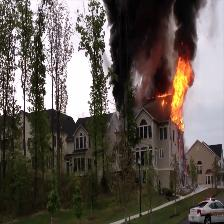fire: (170, 58, 192, 129)
smoke: (104, 1, 168, 100), (172, 2, 203, 56)
